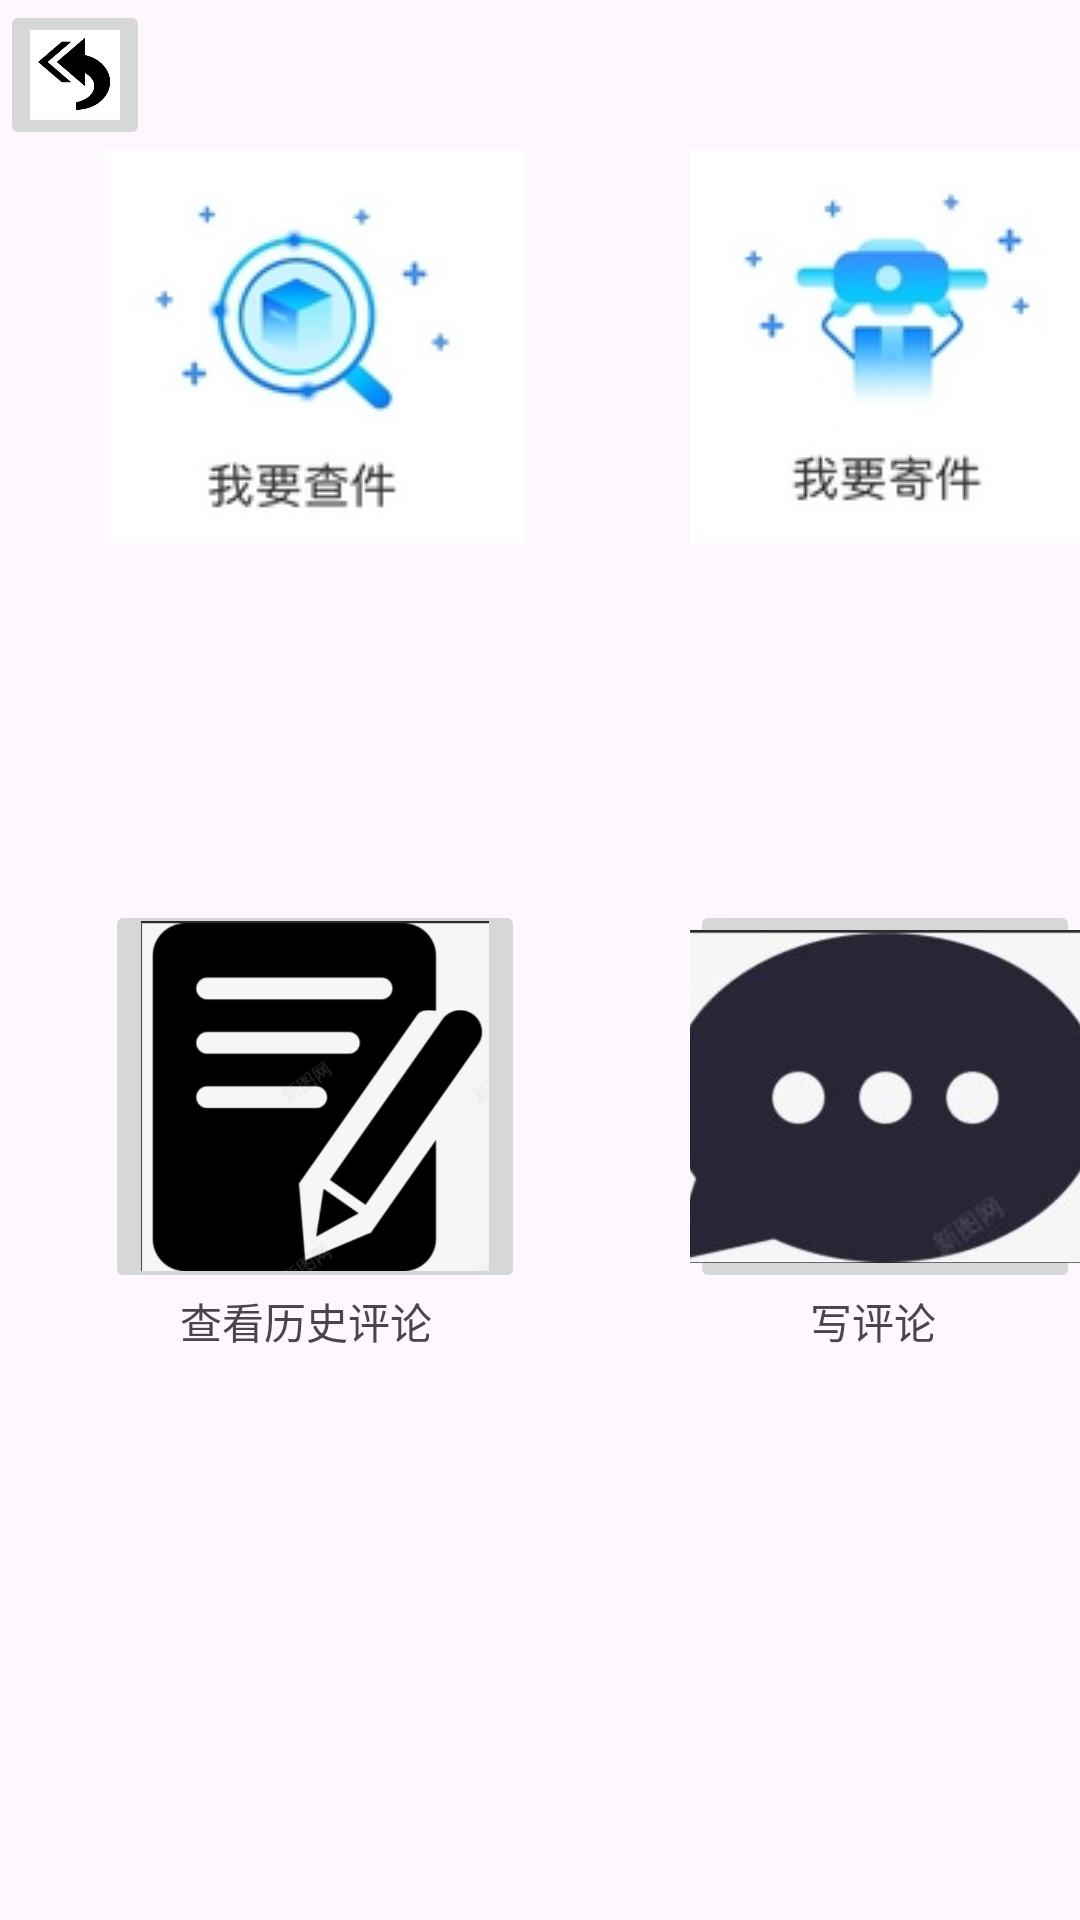

Where to tap for icons on this 1080x1920 app screen, as (x=x, y=y):
back: (x=75, y=75)
